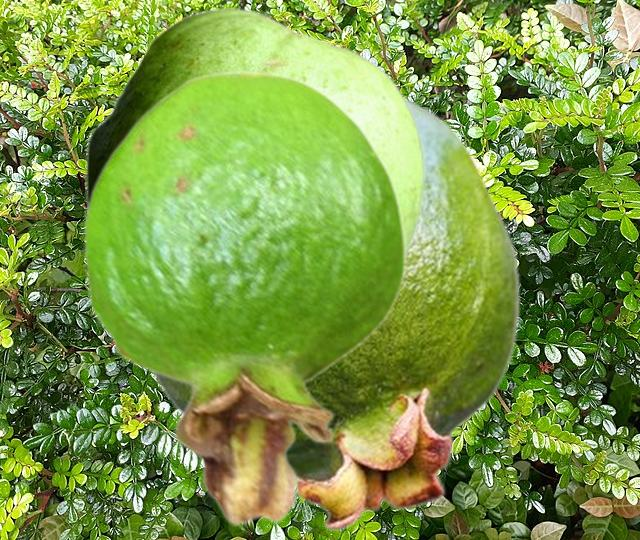guava: (148, 93, 520, 531), (82, 69, 406, 526), (85, 8, 424, 259)
